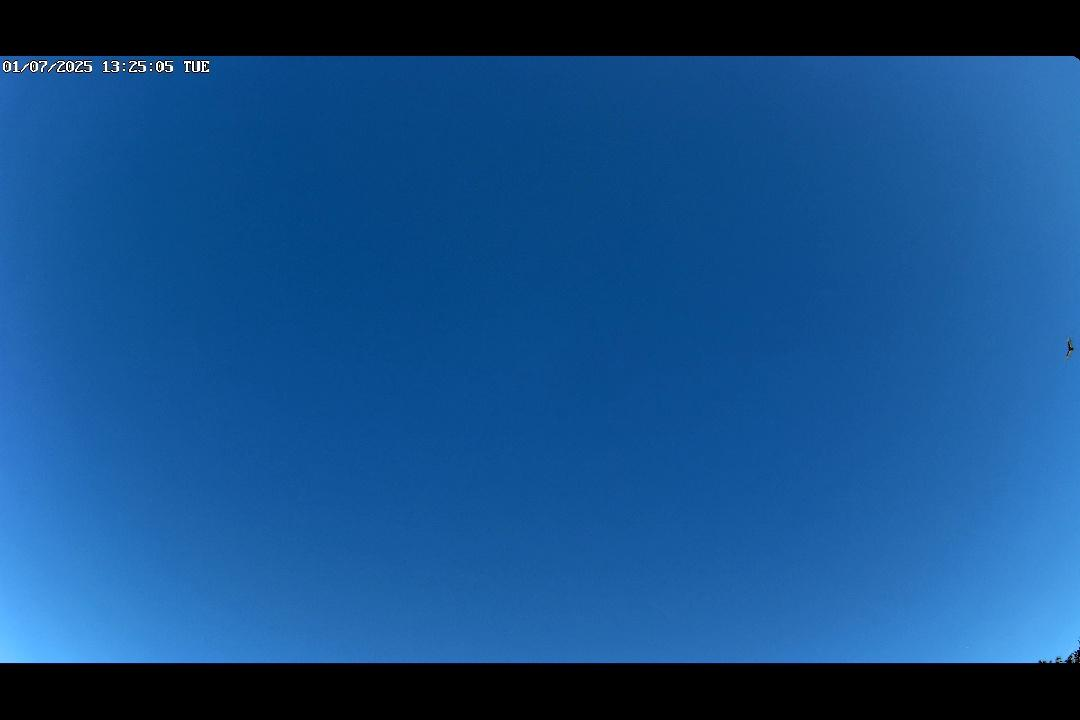WildLife: (1056, 326, 1080, 378)
